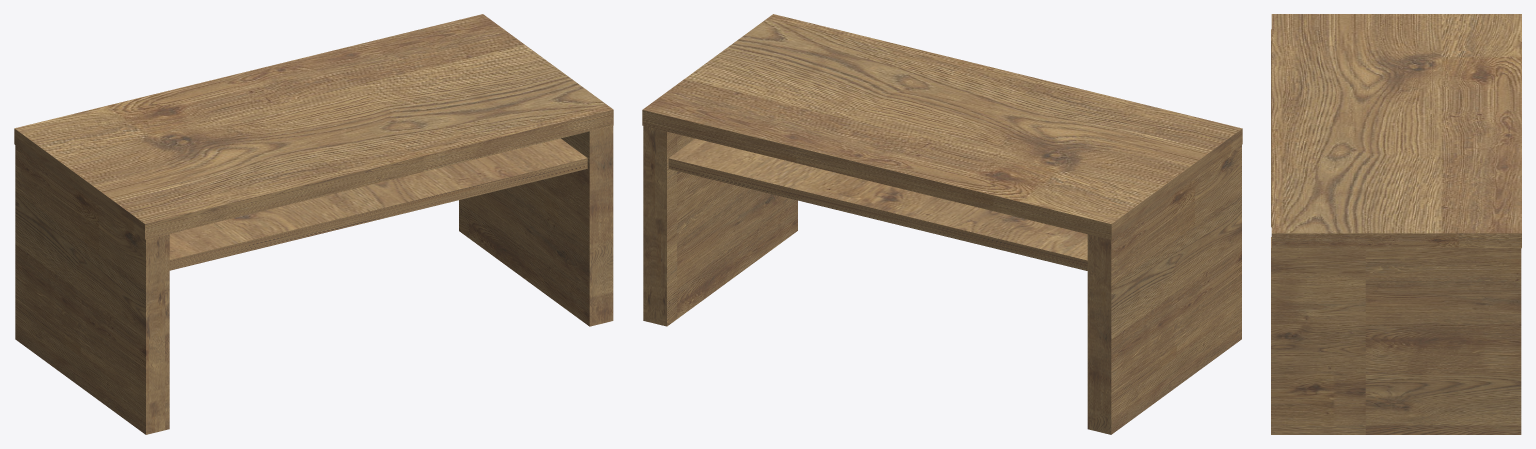
Rendered from стол1.fbx.
3 renders of one model, left to right at view 1: azimuth 30°, elevation 25°; view 2: azimuth 150°, elevation 25°; view 3: azimuth 270°, elevation 25°, orthographic. The views are drawn at different scales.
Visible parts, largest first — view 1: стол1; view 2: стол1; view 3: стол1.
Boxes of the visible parts, left/top/right/bottom form: стол1: left=14, top=14, right=613, bottom=434; стол1: left=642, top=14, right=1242, bottom=434; стол1: left=1271, top=14, right=1521, bottom=434.
Bounding box in the file's own units: 414 × 178 × 200.
Materials: 1 (1 with a texture image).
